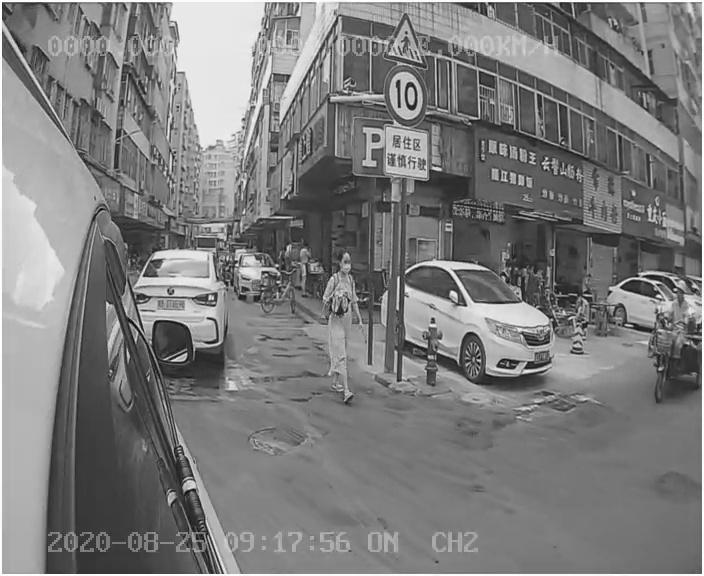person: (310, 252, 376, 406)
